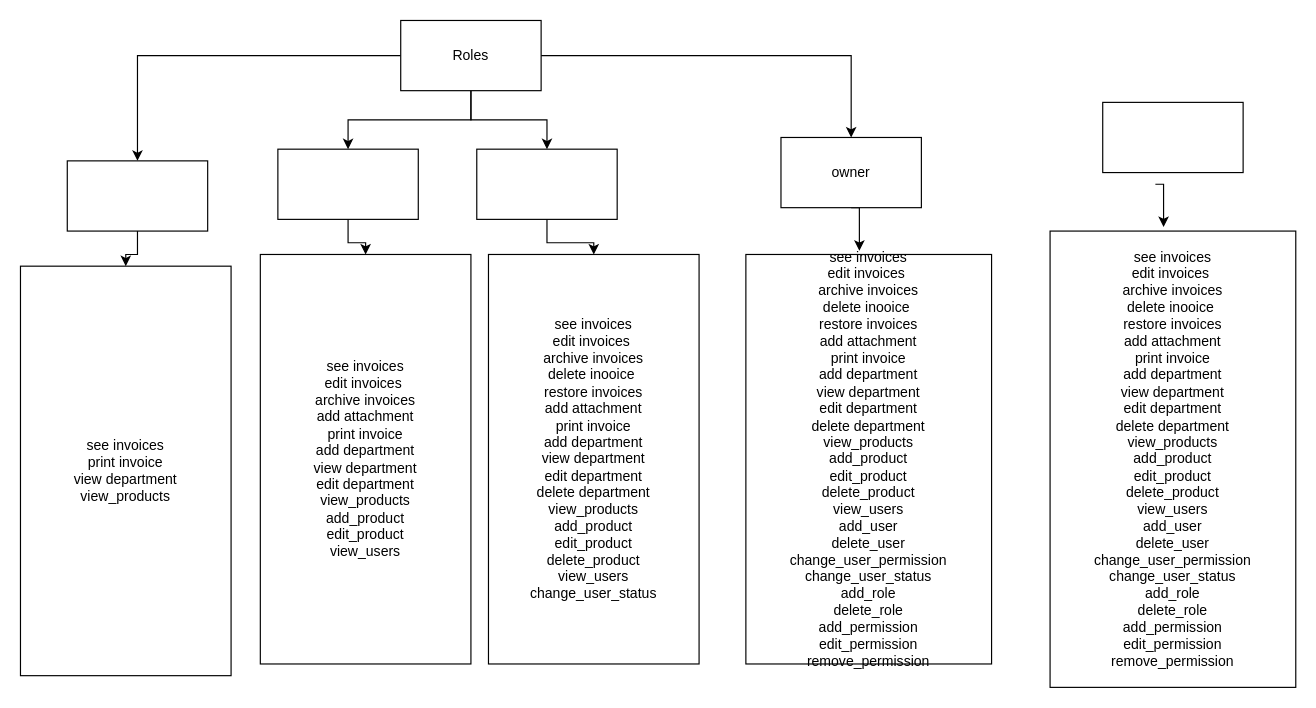
The diagram is 1316 pixels wide and 708 high, and some of its shapes have lost their labels. The centre of each missing label's shape, as x and y in pixels:
admin: point 347,183
Permissions: point 1172,137
superAdmin: point 546,183
user: point 137,195
